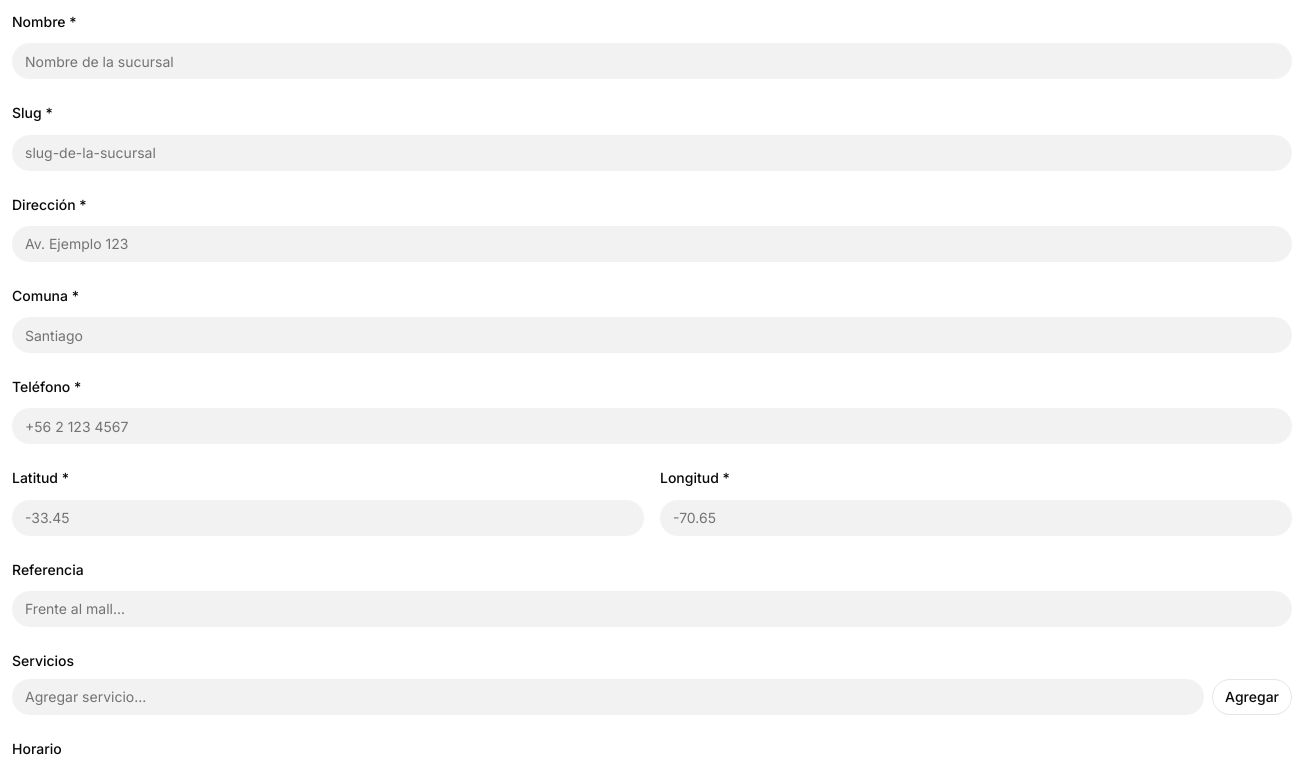
Test: StoreForm › slug auto-gen strips diacritics (S33)
This screenshot has width=1304, height=767.
Type "Sucursal Ñuñoa" into the field labelled "Nombre *" at (652, 61), box [12,43,1292,79]
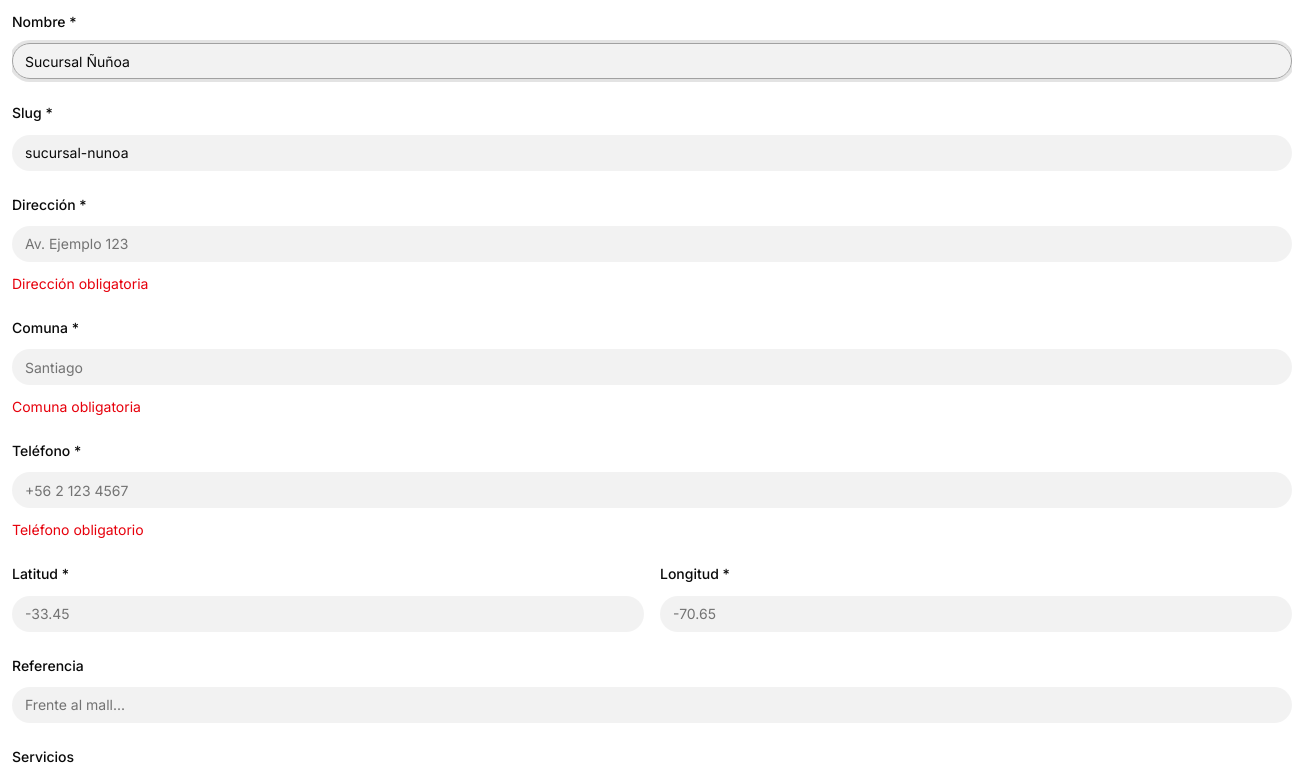
expect the field labelled "Slug *" holds "sucursal-nunoa": met, box [12,134,1292,170]
